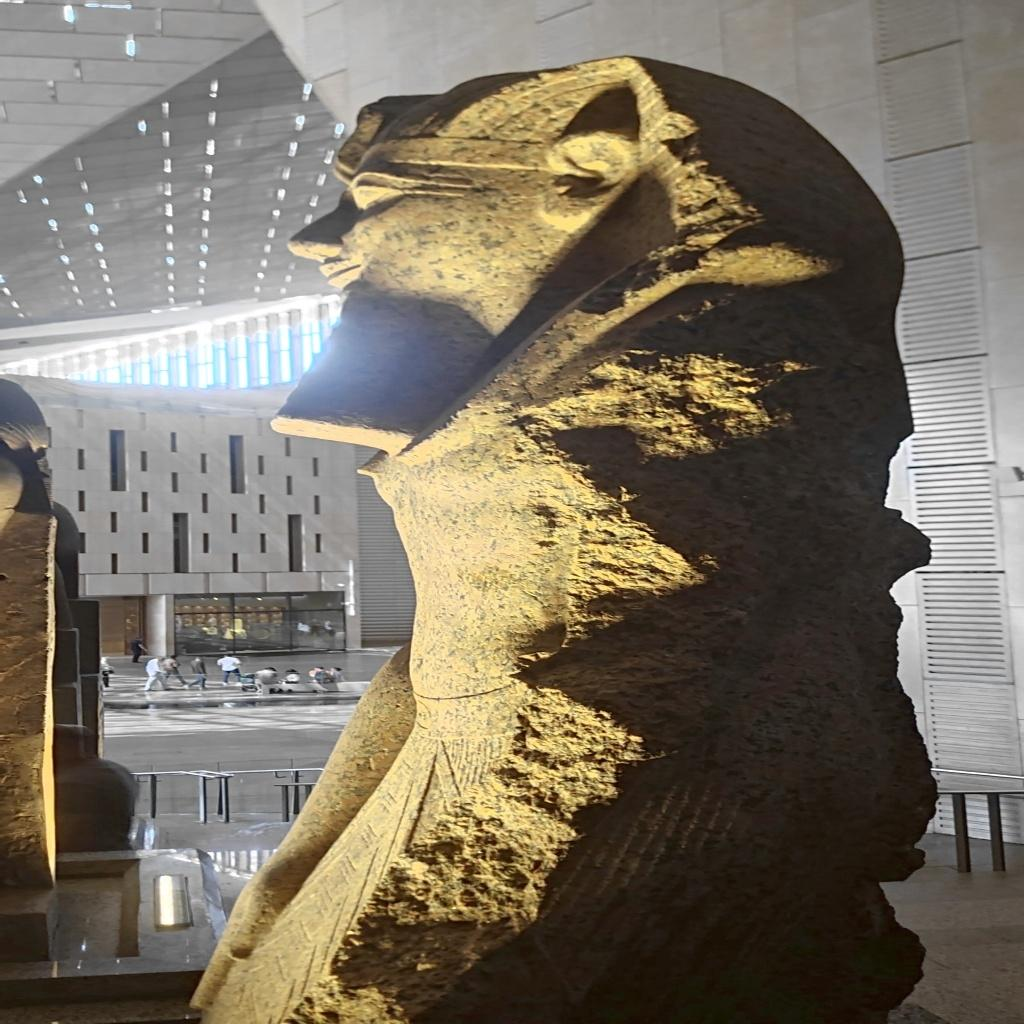Standing Statue of Thutmose III: (186, 53, 946, 1020)
